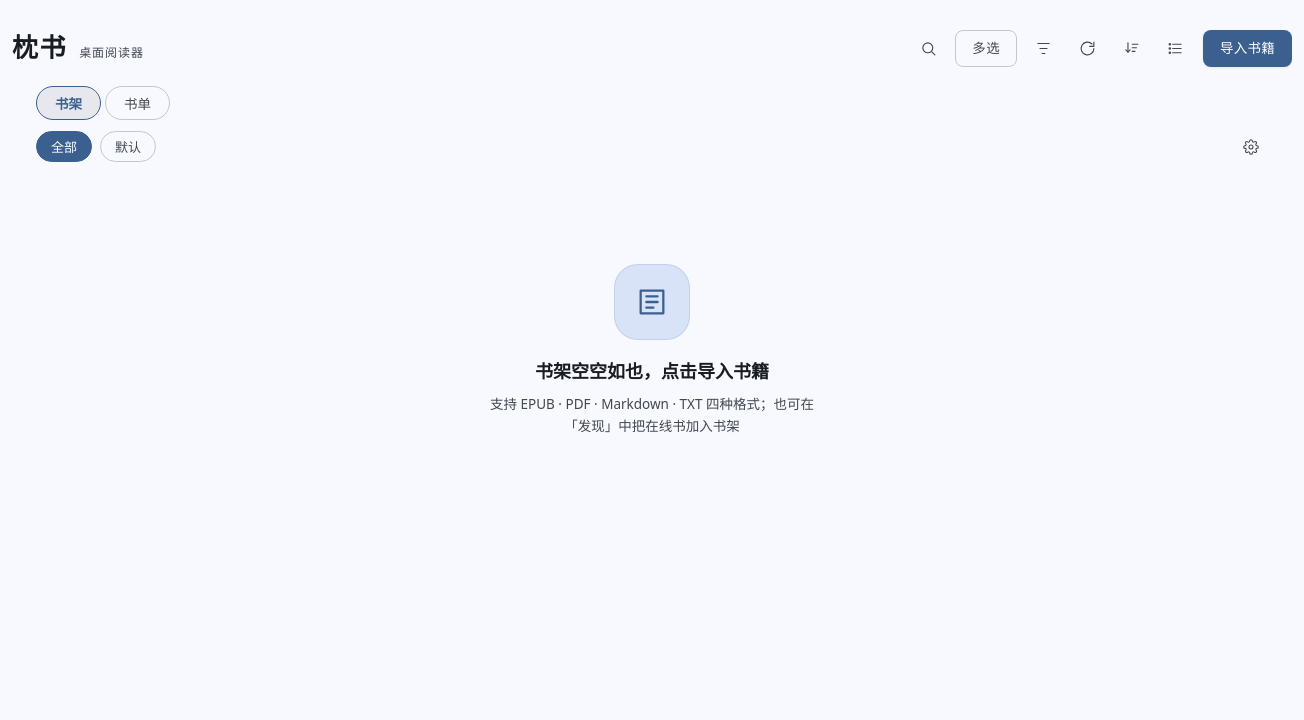
Test case: LibraryPage › toggles the search panel
Expected: the heading "书架空空如也，点击导入书籍" is shown, [535,358,769,386]
Click the button named "全文搜索" at [928, 49], box [911,32,945,66]
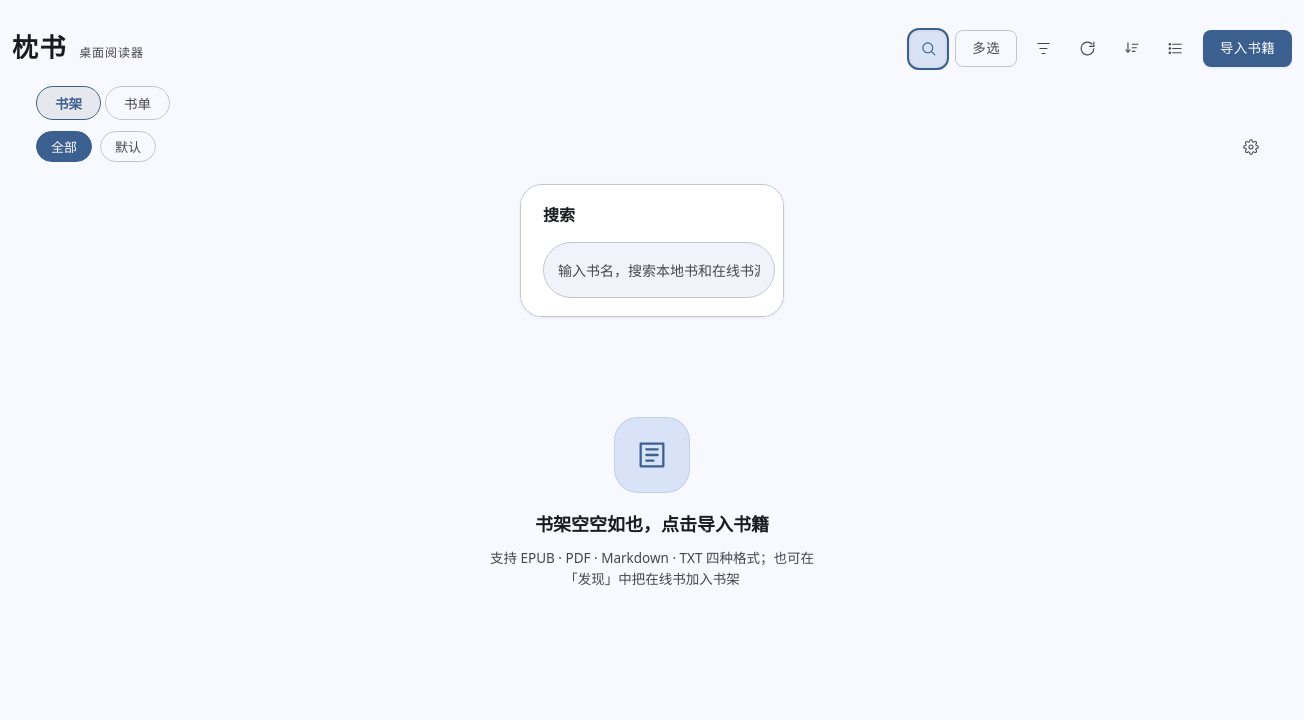
Now the field with placeholder "输入书名，搜索本地书和在线书源" is shown, box [543,242,775,298]
Click the button named "全文搜索" at [928, 49], box [911,32,945,66]
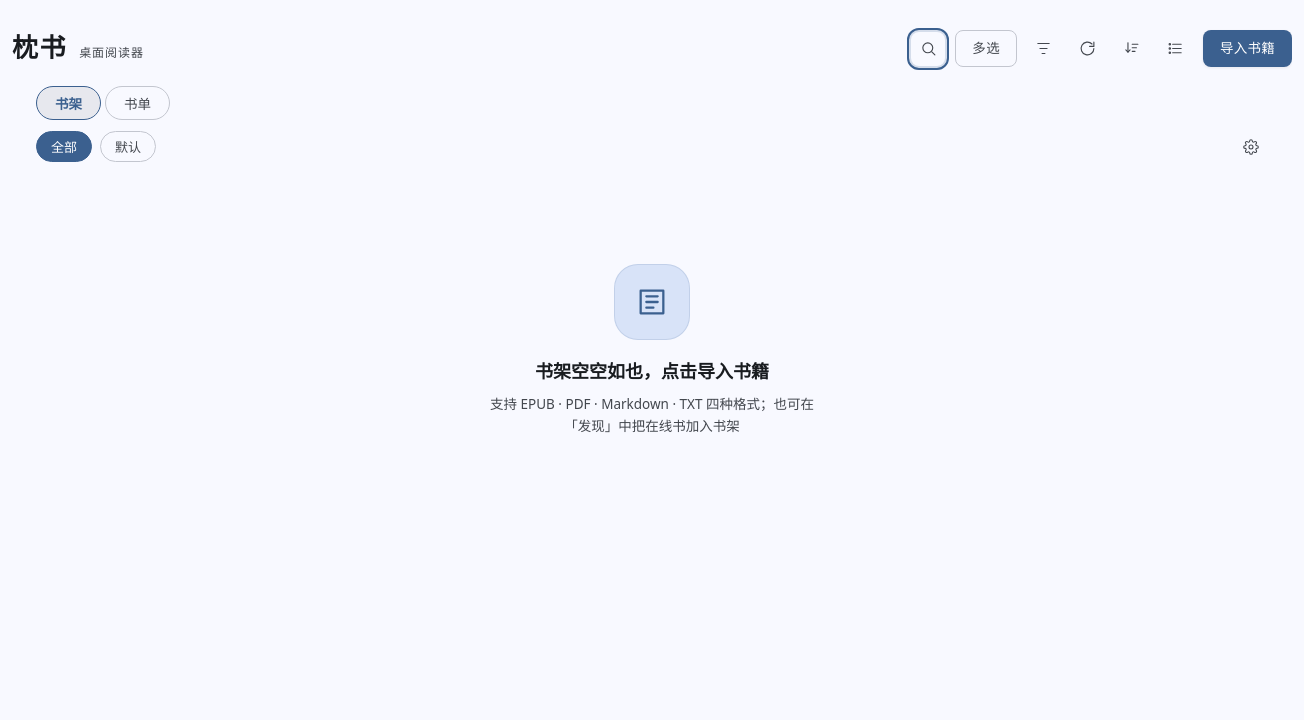
Now the field with placeholder "输入书名，搜索本地书和在线书源" is gone
